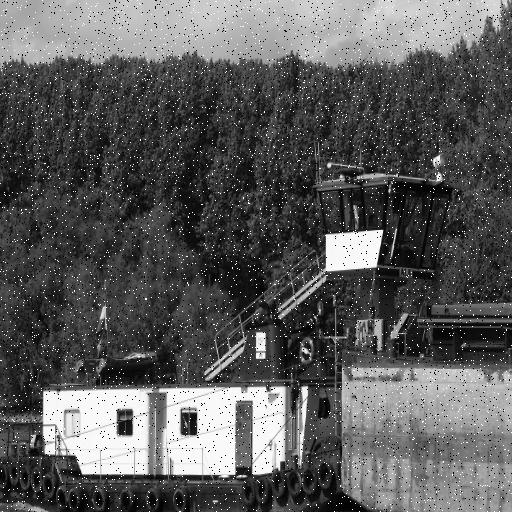tugboat: (1, 149, 466, 512)
